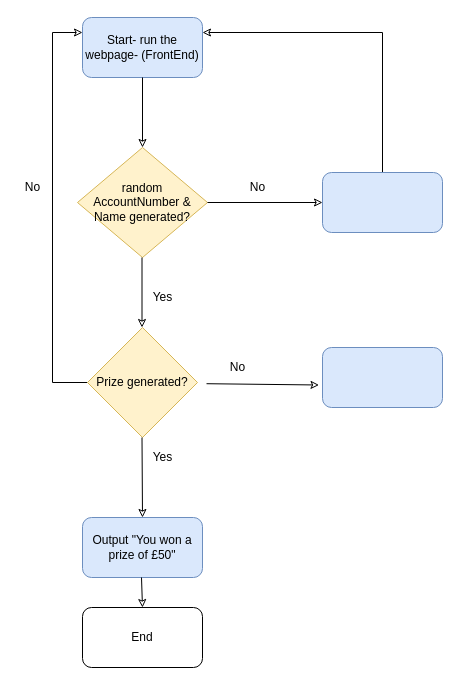
Some shapes in this 460 by 685 pixel diagram are drawn without their labels. The shapes that lost their labels are listed below. From the top down, each one's centre as x and y in pixels, then its label:
the point at 382,202: Page failed to load
the point at 382,377: Output "Unfortunately, you won no prize today"
